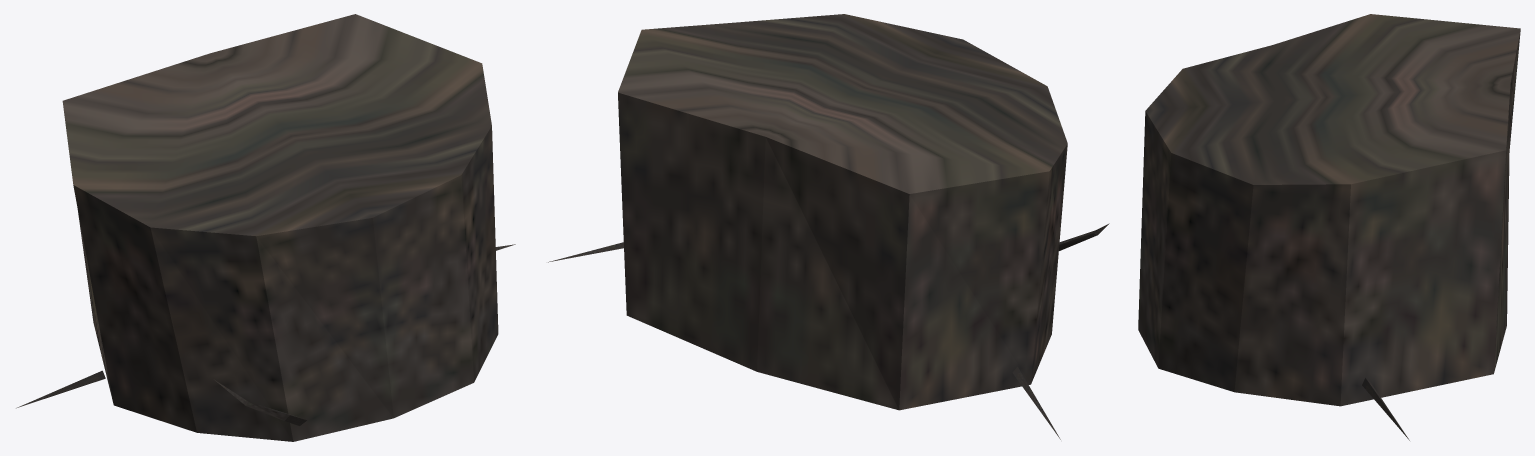
Rendered from trompa8.obj.
The picture shows the model from 3 angles, left to right: view 1: azimuth 30°, elevation 25°; view 2: azimuth 150°, elevation 25°; view 3: azimuth 270°, elevation 25°; orthographic projection. The views are drawn at different scales.
Visible parts, largest first — view 1: pasted__polySurface68 group; view 2: pasted__polySurface68 group; view 3: pasted__polySurface68 group.
Part boxes in pixels (x1,y1,x2,y2): pasted__polySurface68 group: (16,14,515,441); pasted__polySurface68 group: (548,14,1109,439); pasted__polySurface68 group: (1138,14,1520,440).
Bounding box in the file's own units: 1.29 × 0.6693 × 0.8249.
1 material, 1 textured.
